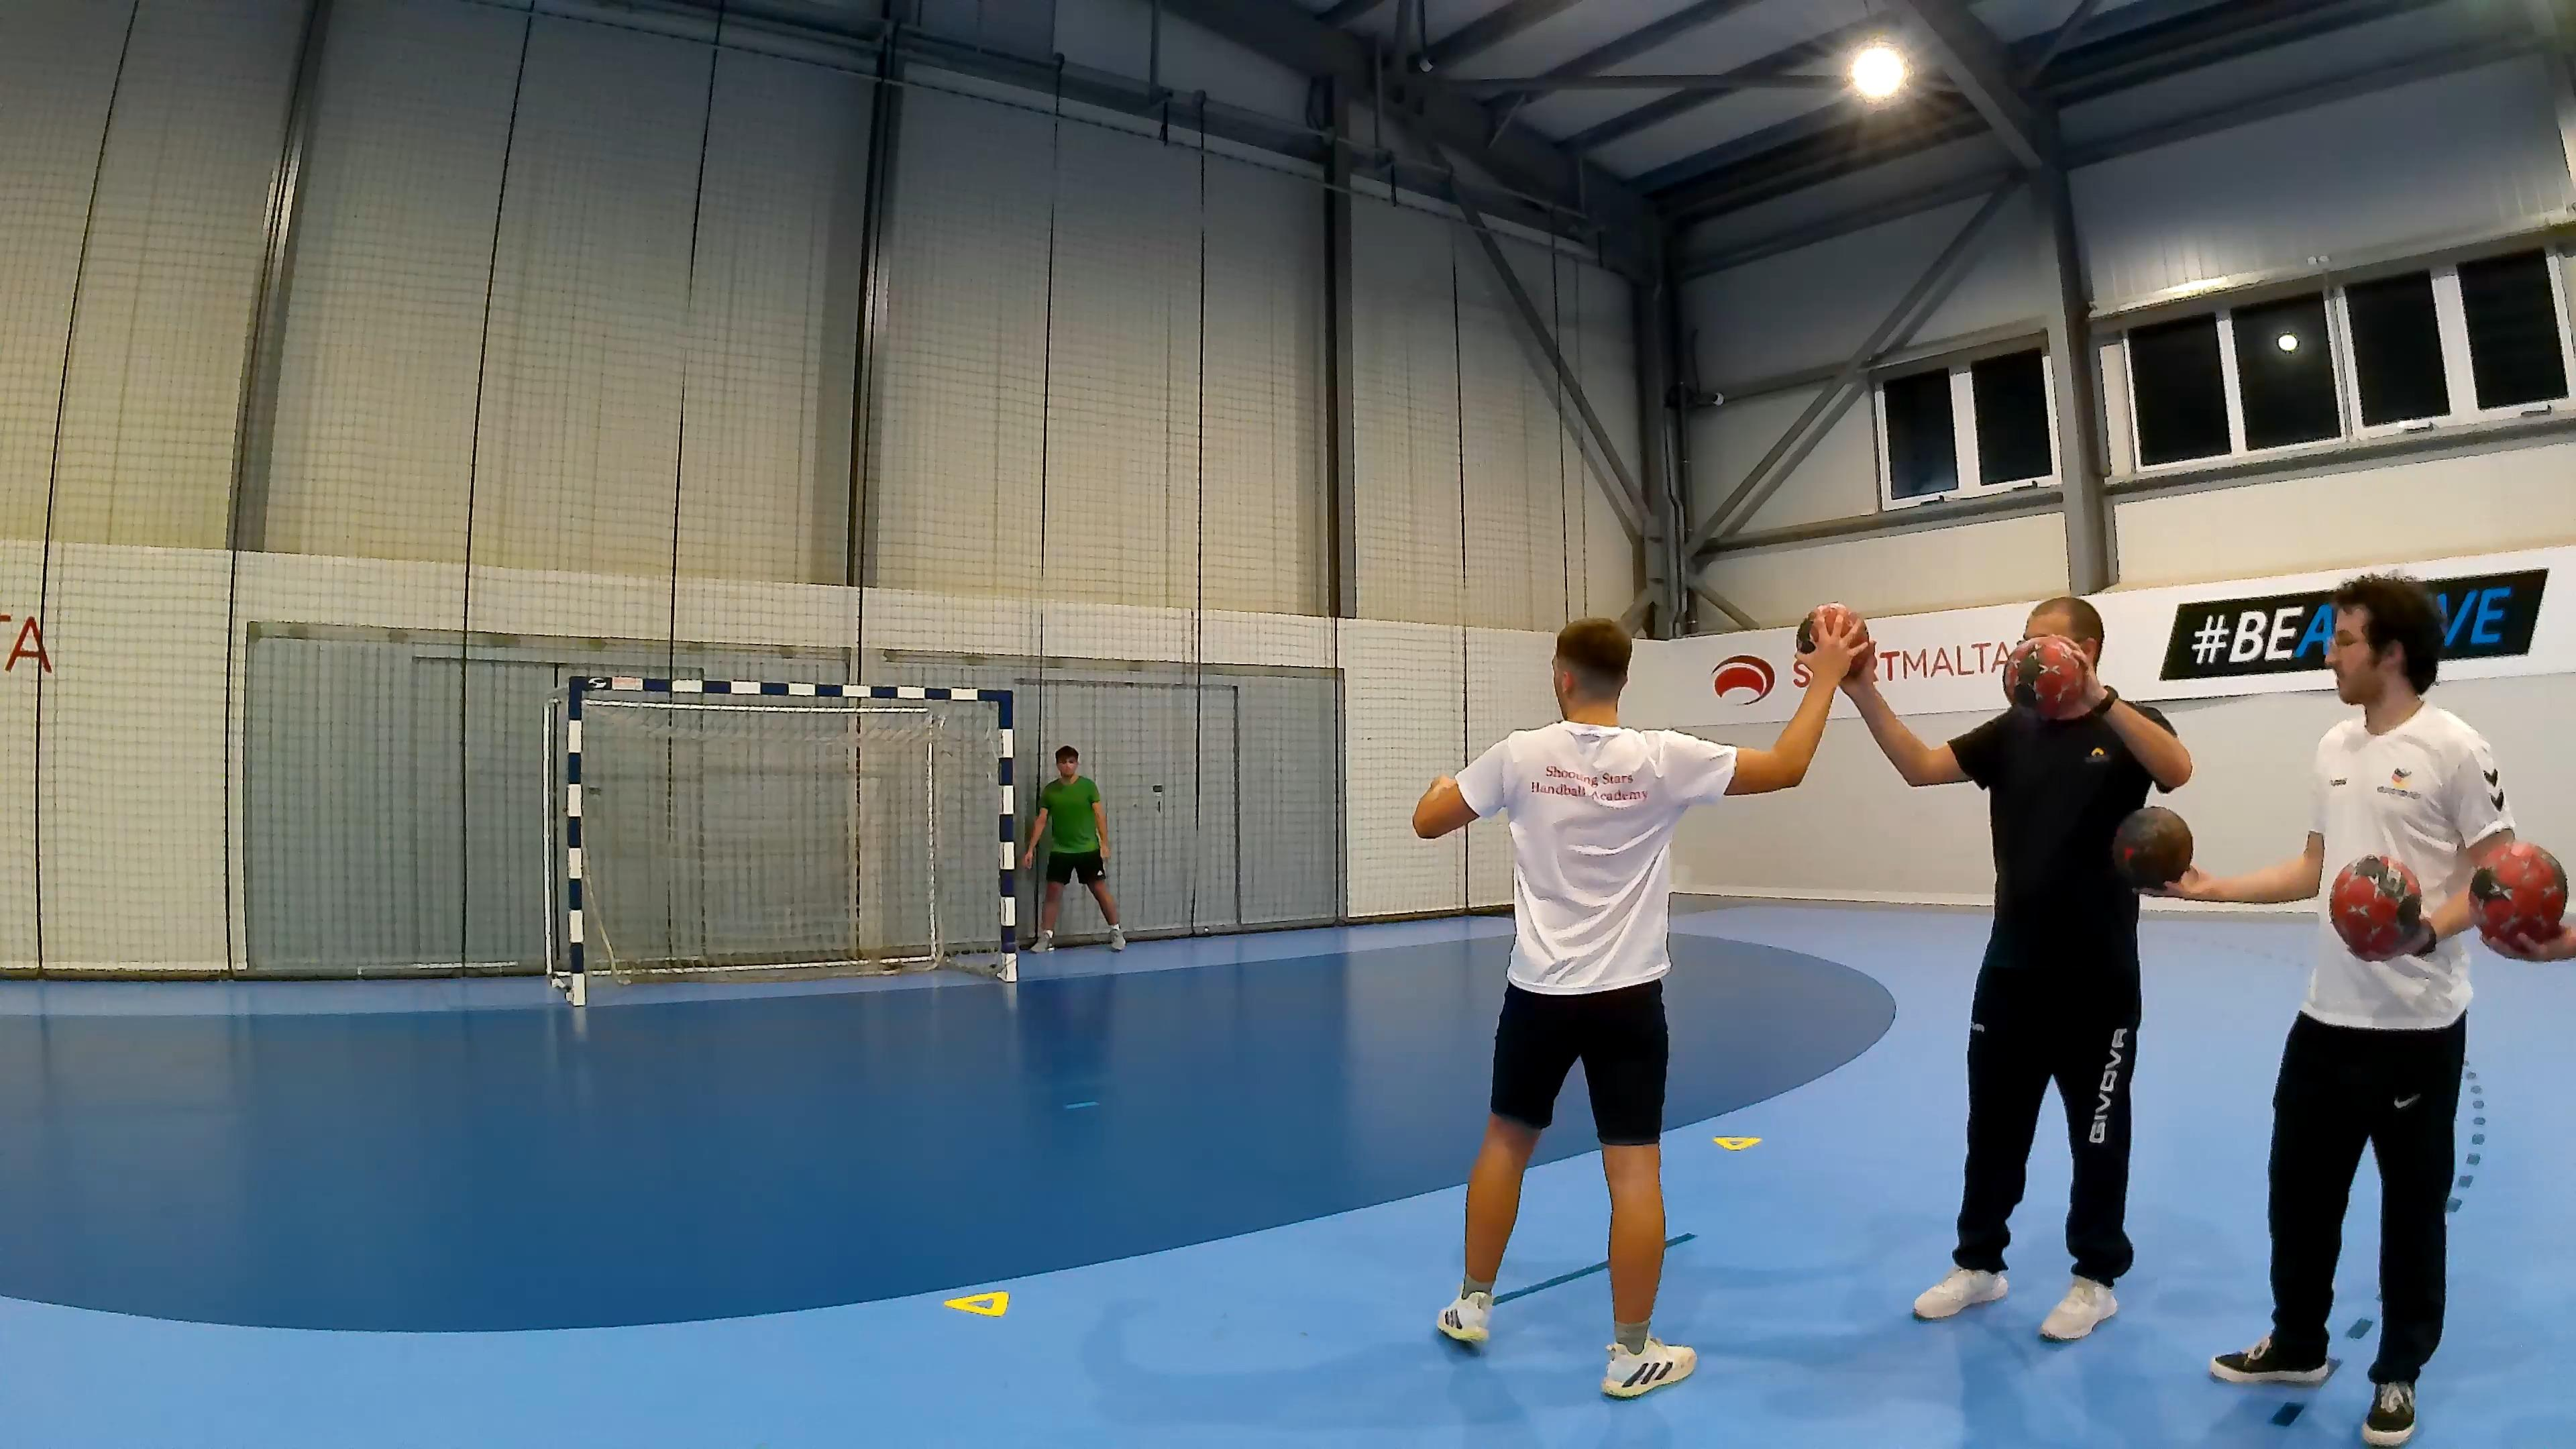handball: (2468, 840, 2567, 950), (2327, 853, 2424, 961), (2003, 635, 2086, 718), (2111, 805, 2192, 890), (1796, 602, 1875, 681)
